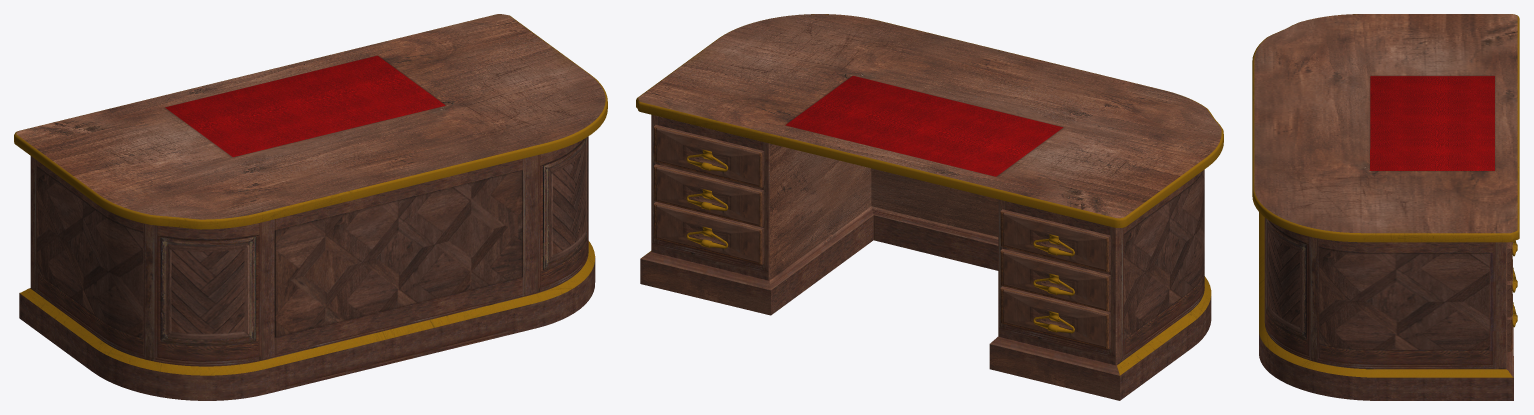
The model's file is desk.glb.
3 views of the same model, side by side, from view 1: azimuth 30°, elevation 25°; view 2: azimuth 150°, elevation 25°; view 3: azimuth 270°, elevation 25° (orthographic). The views are drawn at different scales.
Parts seen in each view (by area): view 1: smoothborder_desk_brass_0; view 2: smoothborder_desk_brass_0; view 3: smoothborder_desk_brass_0.
Boxes of the visible parts, left/top/right/bottom form: smoothborder_desk_brass_0: left=14, top=14, right=607, bottom=400; smoothborder_desk_brass_0: left=636, top=14, right=1223, bottom=400; smoothborder_desk_brass_0: left=1252, top=14, right=1519, bottom=400.
Size of the model in its own units: 0.75 by 0.2701 by 0.3837.
2 materials, 2 textured.
